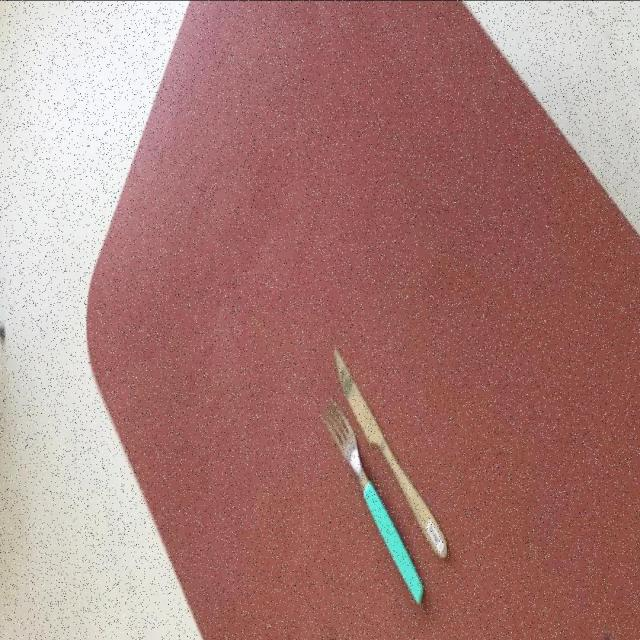Fork: (332, 346, 448, 560), (322, 398, 424, 606)
Knife: (332, 346, 448, 560), (322, 398, 424, 606)
